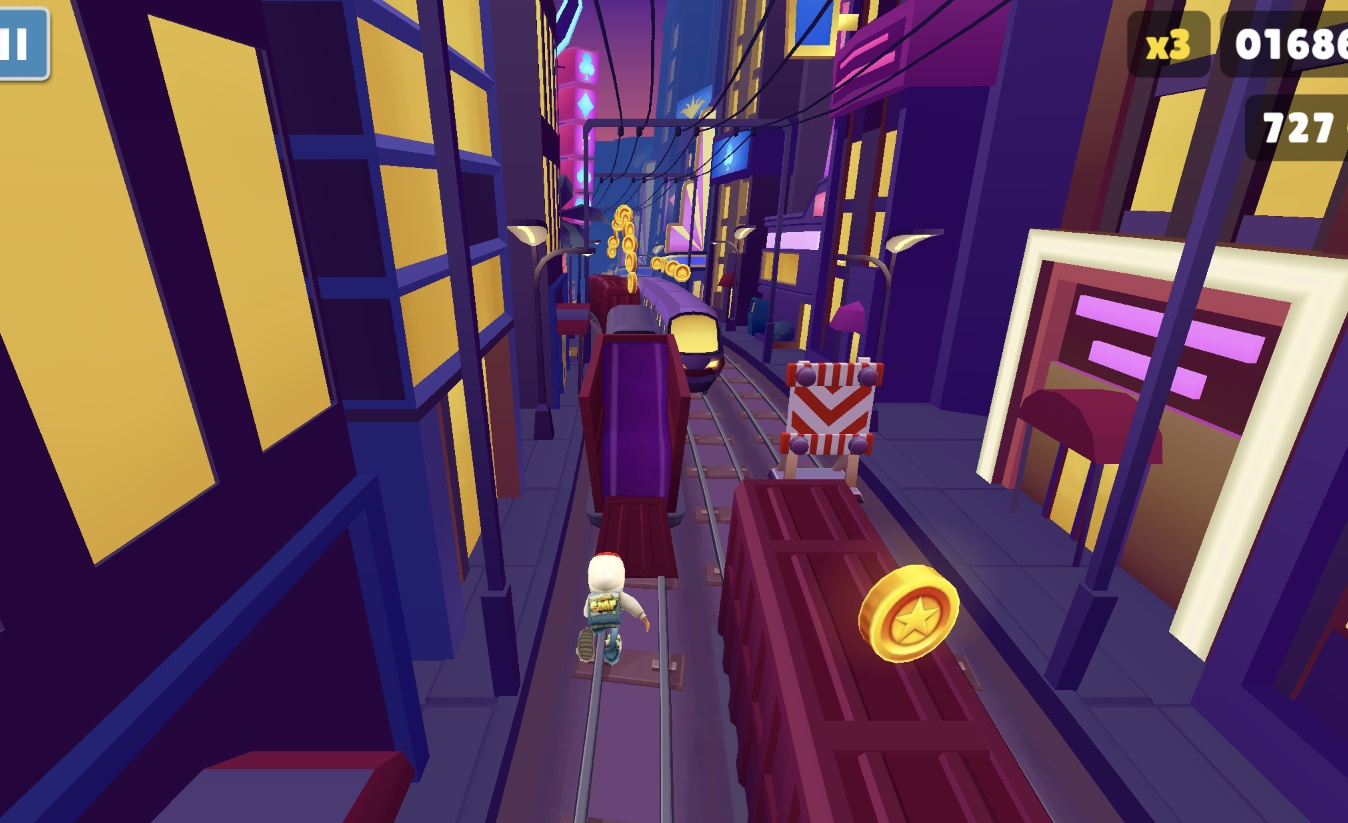overhead_barrier: (777, 356, 883, 482)
train: (716, 480, 1044, 823), (578, 274, 692, 580), (637, 284, 731, 396)
